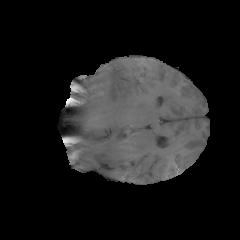glioma: (80, 66, 129, 132)
